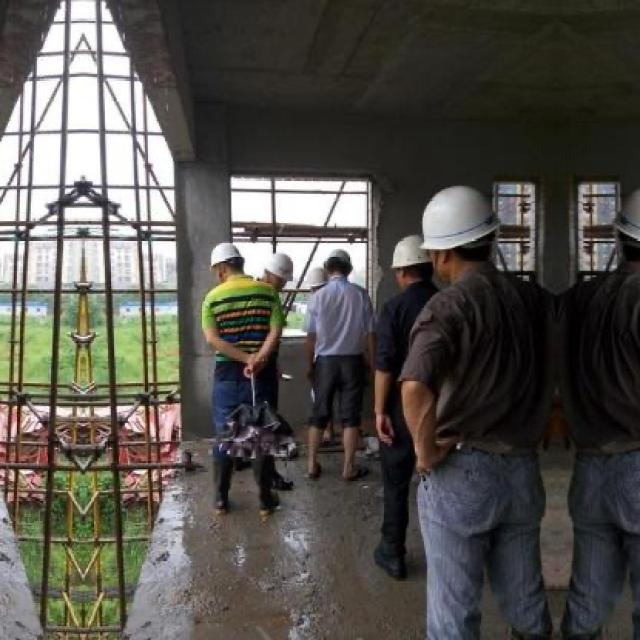con casco: (391, 176, 534, 290), (378, 226, 458, 286), (221, 247, 292, 306), (180, 236, 246, 298), (316, 237, 375, 288)
